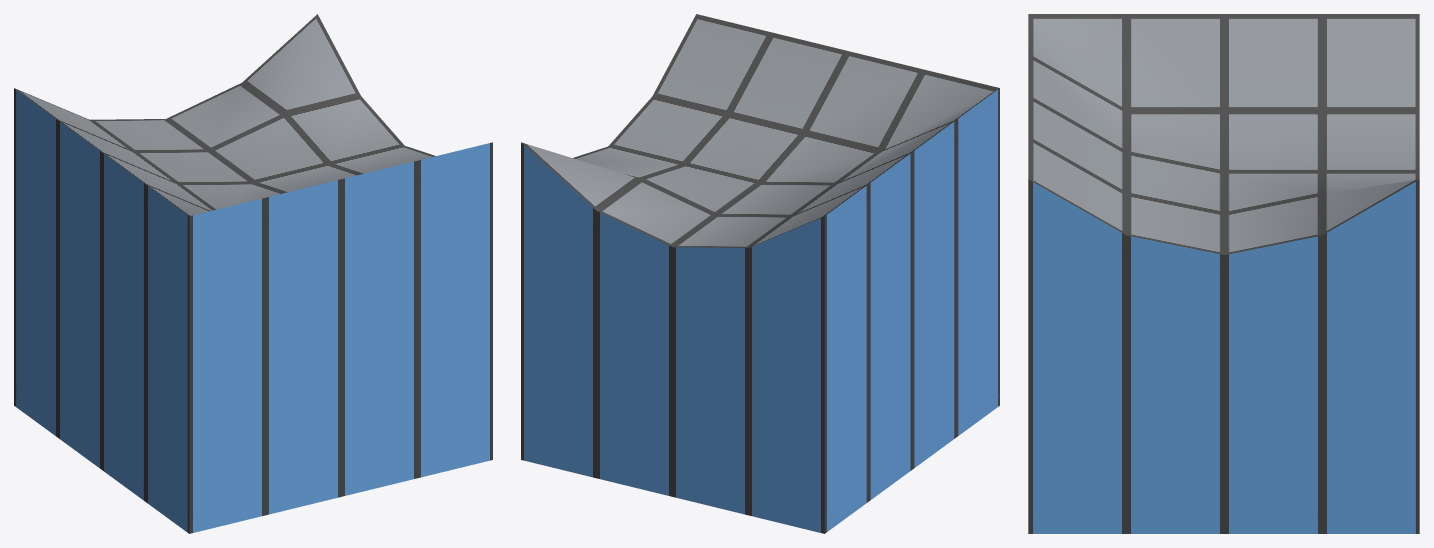
File: concave_4x4_03.fbx
The picture shows the model from 3 angles, left to right: view 1: azimuth 30°, elevation 25°; view 2: azimuth 150°, elevation 25°; view 3: azimuth 270°, elevation 25°; orthographic projection. The views are drawn at different scales.
Visible parts, largest first — view 1: concave_4x4_03; view 2: concave_4x4_03; view 3: concave_4x4_03.
Boxes of the visible parts, bbox=[...] form: concave_4x4_03: bbox=[14, 14, 492, 533]; concave_4x4_03: bbox=[521, 14, 999, 533]; concave_4x4_03: bbox=[1028, 14, 1419, 533].
Bounding box in the file's own units: 320 × 320 × 320.
Materials: 2 (2 with a texture image).
